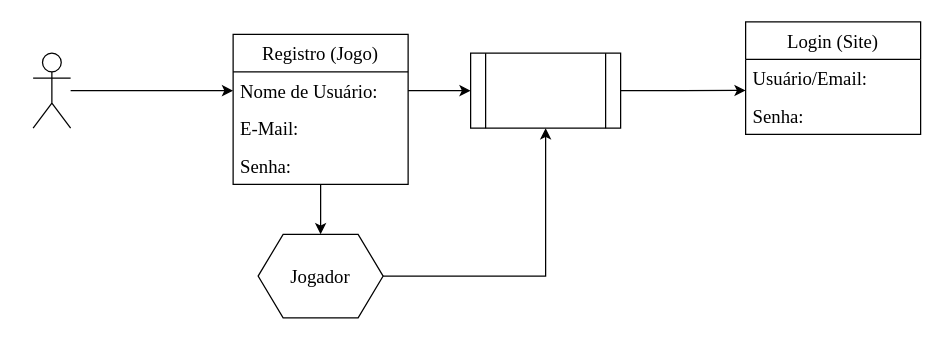
The diagram is 943 pixels wide and 340 high, and some of its shapes have lost their labels. Here are the shapes that lost their labels. From the top down, the centre of each, then its label:
point 51,90: Usuário
point 545,90: Conta
